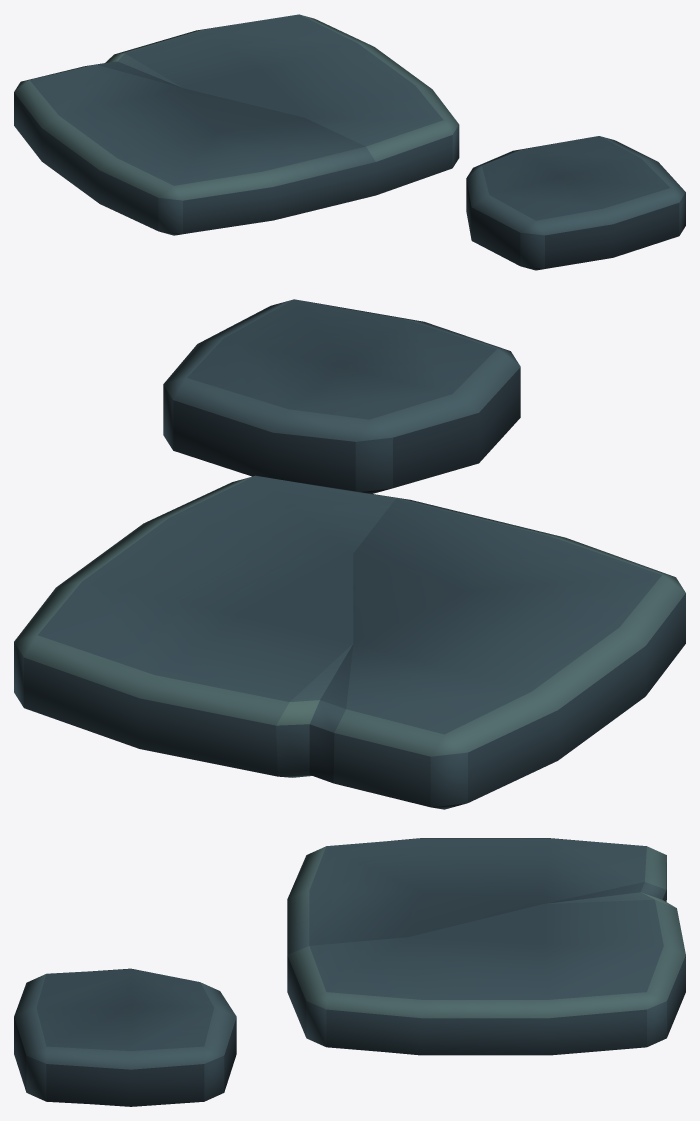
The model's file is stone_path_9_LOD_setup.fbx.
The picture shows the model from 3 angles, top to bottom: view 1: azimuth 30°, elevation 25°; view 2: azimuth 150°, elevation 25°; view 3: azimuth 270°, elevation 25°; orthographic projection. The views are drawn at different scales.
Visible parts, largest first — view 1: stone_path_9_LOD0; view 2: stone_path_9_LOD0; view 3: stone_path_9_LOD0.
Boxes of the visible parts, left/top/right/bottom form: stone_path_9_LOD0: left=14, top=14, right=685, bottom=270; stone_path_9_LOD0: left=14, top=299, right=685, bottom=809; stone_path_9_LOD0: left=14, top=838, right=685, bottom=1106.
Size of what is drawn, in the model's own units: 164 by 18.28 by 201.
